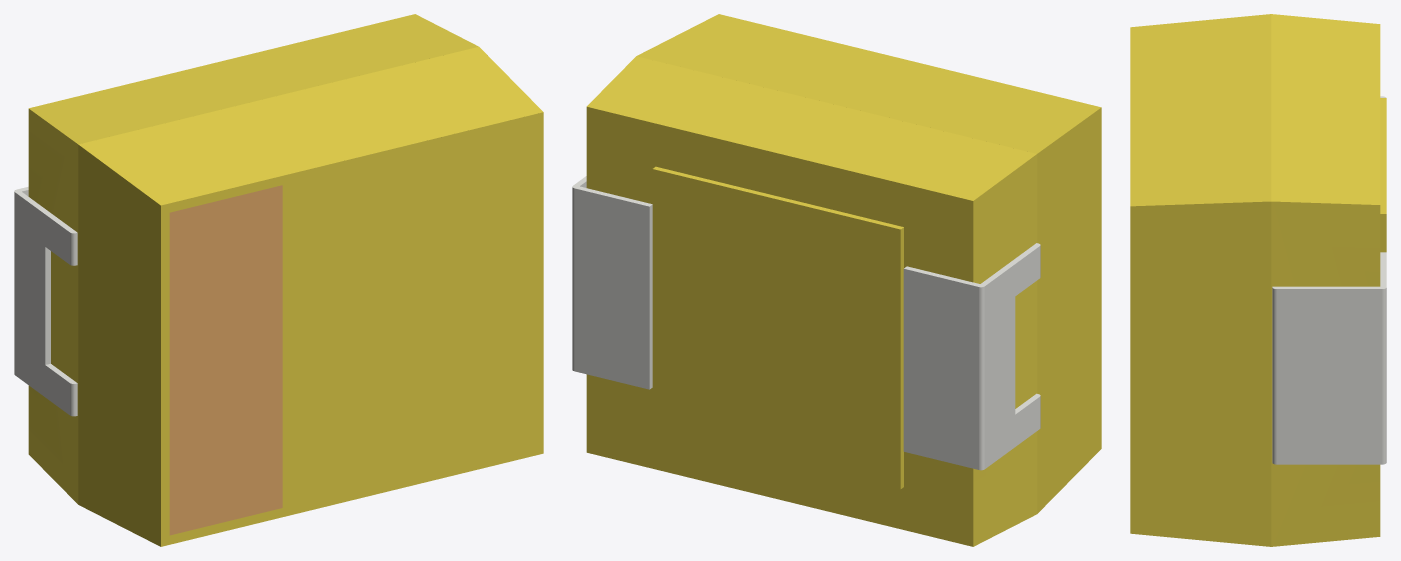
The model's file is CP_EIA-7361-438_AVX-U.glb.
3 views of the same model, side by side, from view 1: azimuth 30°, elevation 25°; view 2: azimuth 150°, elevation 25°; view 3: azimuth 270°, elevation 25° (orthographic). The views are drawn at different scales.
Parts seen in each view (by area): view 1: Shape_IndexedFaceSet.025, Shape_IndexedFaceSet.044, Shape_IndexedFaceSet.024, Shape_IndexedFaceSet.026, Shape_IndexedFaceSet.014, Shape_IndexedFaceSet.015, Shape_IndexedFaceSet.033, Shape_IndexedFaceSet.042; view 2: Shape_IndexedFaceSet.036, Shape_IndexedFaceSet.011, Shape_IndexedFaceSet.014, Shape_IndexedFaceSet.024, Shape_IndexedFaceSet.026, Shape_IndexedFaceSet, Shape_IndexedFaceSet.029, Shape_IndexedFaceSet.015, Shape_IndexedFaceSet.033, Shape_IndexedFaceSet.028, Shape_IndexedFaceSet.019, Shape_IndexedFaceSet.020 (+2 smaller); view 3: Shape_IndexedFaceSet.013, Shape_IndexedFaceSet.024, Shape_IndexedFaceSet.014, Shape_IndexedFaceSet.005, Shape_IndexedFaceSet.010, Shape_IndexedFaceSet.006, Shape_IndexedFaceSet.002, Shape_IndexedFaceSet.020, Shape_IndexedFaceSet.001.
Part boxes in pixels (bbox=[...]): Shape_IndexedFaceSet.025: bbox=[161, 112, 543, 546]; Shape_IndexedFaceSet.044: bbox=[169, 185, 282, 535]; Shape_IndexedFaceSet.024: bbox=[78, 47, 543, 205]; Shape_IndexedFaceSet.026: bbox=[78, 145, 160, 546]; Shape_IndexedFaceSet.014: bbox=[29, 14, 478, 144]; Shape_IndexedFaceSet.015: bbox=[28, 109, 78, 504]; Shape_IndexedFaceSet.033: bbox=[15, 192, 69, 414]; Shape_IndexedFaceSet.042: bbox=[45, 247, 50, 364]; Shape_IndexedFaceSet.036: bbox=[652, 169, 900, 489]; Shape_IndexedFaceSet.011: bbox=[586, 107, 973, 546]; Shape_IndexedFaceSet.014: bbox=[587, 56, 1036, 200]; Shape_IndexedFaceSet.024: bbox=[636, 14, 1100, 153]; Shape_IndexedFaceSet.026: bbox=[1037, 107, 1101, 513]; Shape_IndexedFaceSet: bbox=[574, 188, 649, 389]; Shape_IndexedFaceSet.029: bbox=[903, 269, 978, 469]; Shape_IndexedFaceSet.015: bbox=[973, 154, 1037, 546]; Shape_IndexedFaceSet.033: bbox=[984, 246, 1039, 468]; Shape_IndexedFaceSet.028: bbox=[979, 286, 984, 470]; Shape_IndexedFaceSet.019: bbox=[900, 227, 903, 488]; Shape_IndexedFaceSet.020: bbox=[653, 166, 903, 229]; Shape_IndexedFaceSet.013: bbox=[1130, 201, 1271, 546]; Shape_IndexedFaceSet.024: bbox=[1130, 14, 1271, 206]; Shape_IndexedFaceSet.014: bbox=[1271, 14, 1380, 204]; Shape_IndexedFaceSet.005: bbox=[1276, 289, 1382, 464]; Shape_IndexedFaceSet.010: bbox=[1271, 201, 1380, 546]; Shape_IndexedFaceSet.006: bbox=[1272, 287, 1276, 464]; Shape_IndexedFaceSet.002: bbox=[1382, 288, 1386, 464]; Shape_IndexedFaceSet.020: bbox=[1380, 98, 1386, 213]; Shape_IndexedFaceSet.001: bbox=[1272, 252, 1386, 288].
Size of what is drawn, in the model's own units: 2.87 by 2.4 by 1.61.
